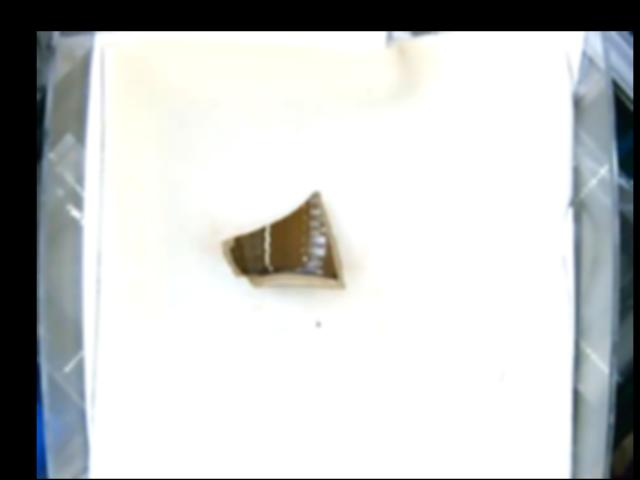China: (220, 191, 345, 294)
